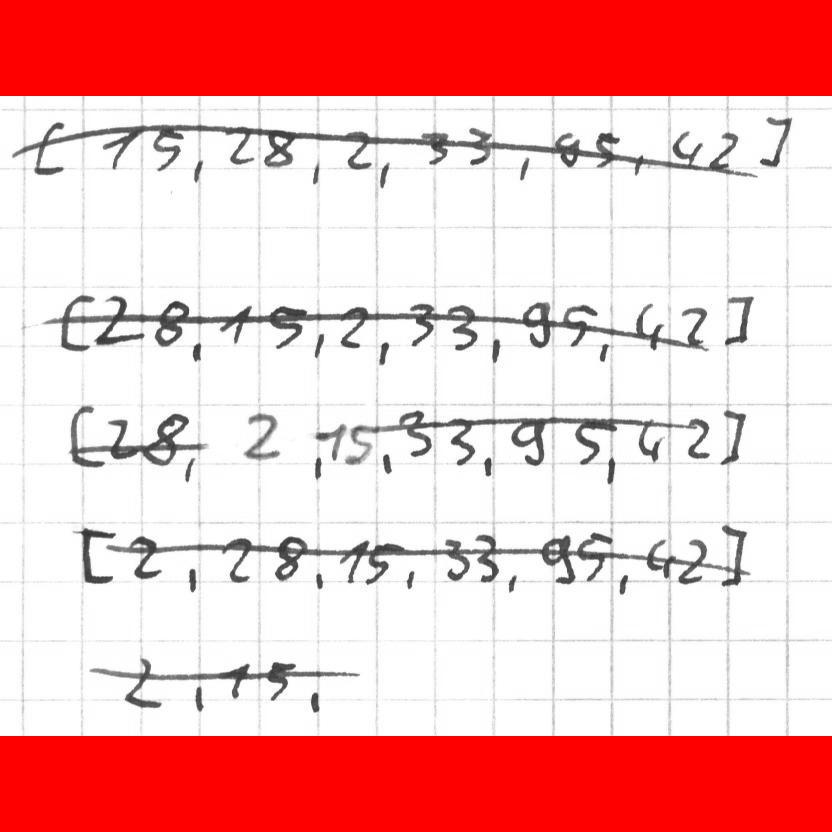Char: (314, 415, 374, 468), (77, 521, 118, 586), (241, 407, 284, 465), (714, 404, 751, 466), (758, 110, 795, 170), (722, 286, 756, 348), (375, 335, 395, 372), (513, 150, 533, 187), (375, 155, 394, 193), (188, 154, 210, 186), (603, 451, 621, 487), (375, 448, 397, 477), (402, 567, 427, 592), (310, 329, 330, 360), (594, 337, 614, 366), (190, 682, 209, 711), (308, 157, 327, 185), (305, 683, 323, 712), (487, 332, 501, 368), (187, 336, 205, 363), (478, 452, 496, 479), (307, 453, 324, 481), (187, 564, 202, 595), (181, 454, 198, 480), (616, 572, 634, 595), (311, 569, 327, 589), (509, 571, 522, 594)
